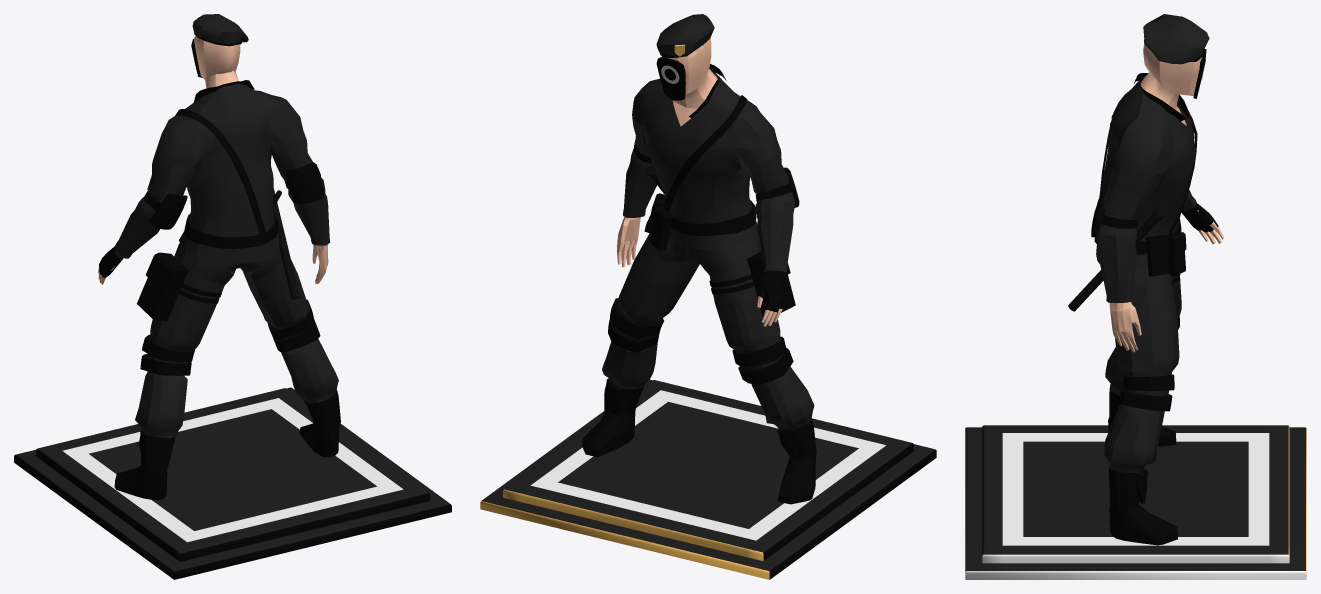
Rendered from UnitBlack_Idle.fbx.
3 views of the same model, side by side, from view 1: azimuth 30°, elevation 25°; view 2: azimuth 150°, elevation 25°; view 3: azimuth 270°, elevation 25° (orthographic). The views are drawn at different scales.
Parts seen in each view (by area): view 1: UnitBlack_Idle; view 2: UnitBlack_Idle; view 3: UnitBlack_Idle.
Boxes of the visible parts, bbox=[...] form: UnitBlack_Idle: bbox=[14, 14, 451, 579]; UnitBlack_Idle: bbox=[480, 14, 936, 579]; UnitBlack_Idle: bbox=[965, 14, 1306, 579].
Bounding box in the file's own units: 100 × 158 × 100.
